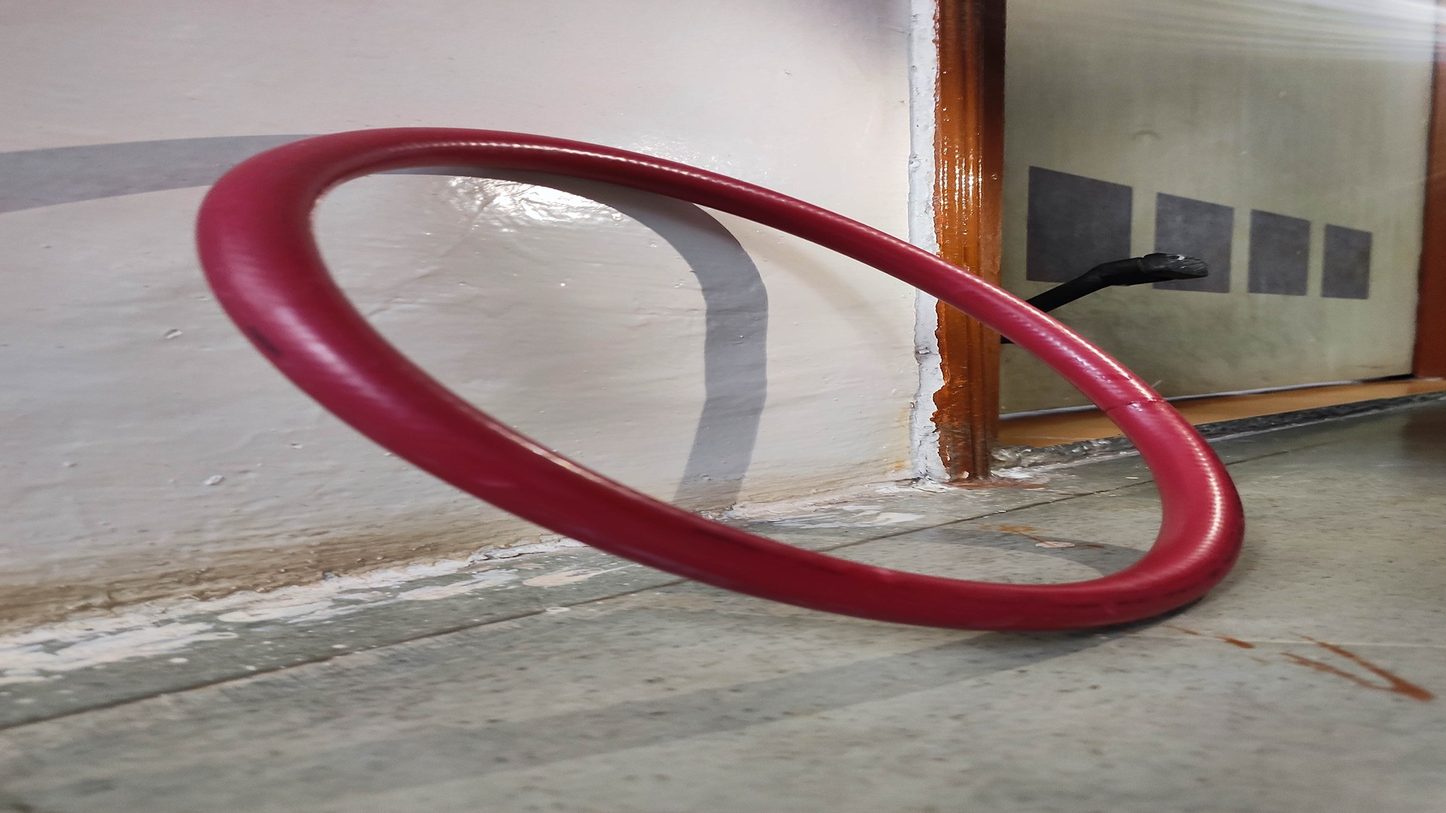Red ring: (193, 126, 1249, 637)
